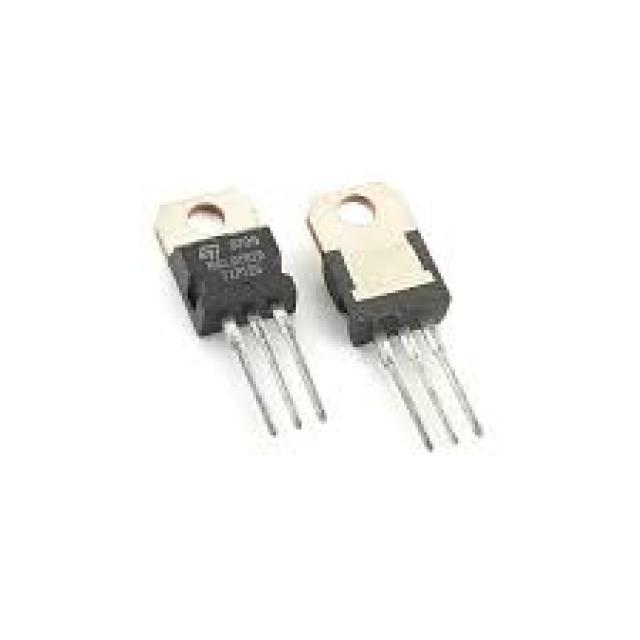Transistor: (307, 182, 481, 452), (156, 191, 327, 441)
